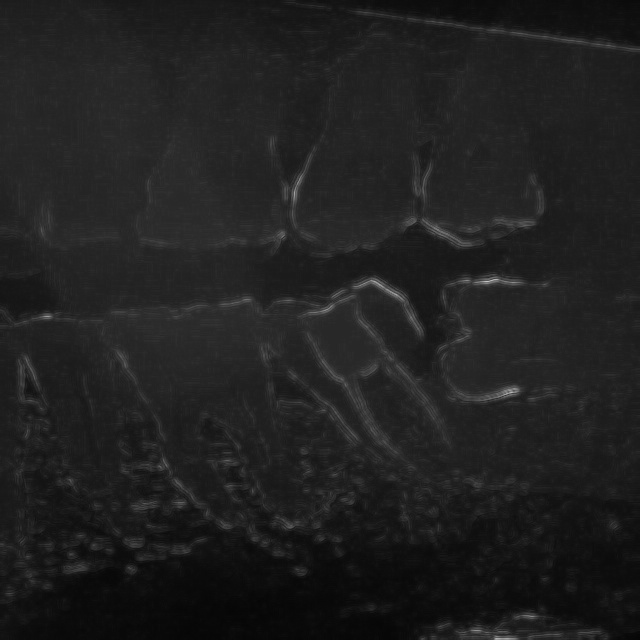Class 0- No endodontic treatment: (247, 270, 532, 528)
cavity: (270, 23, 588, 276), (85, 286, 332, 566)
